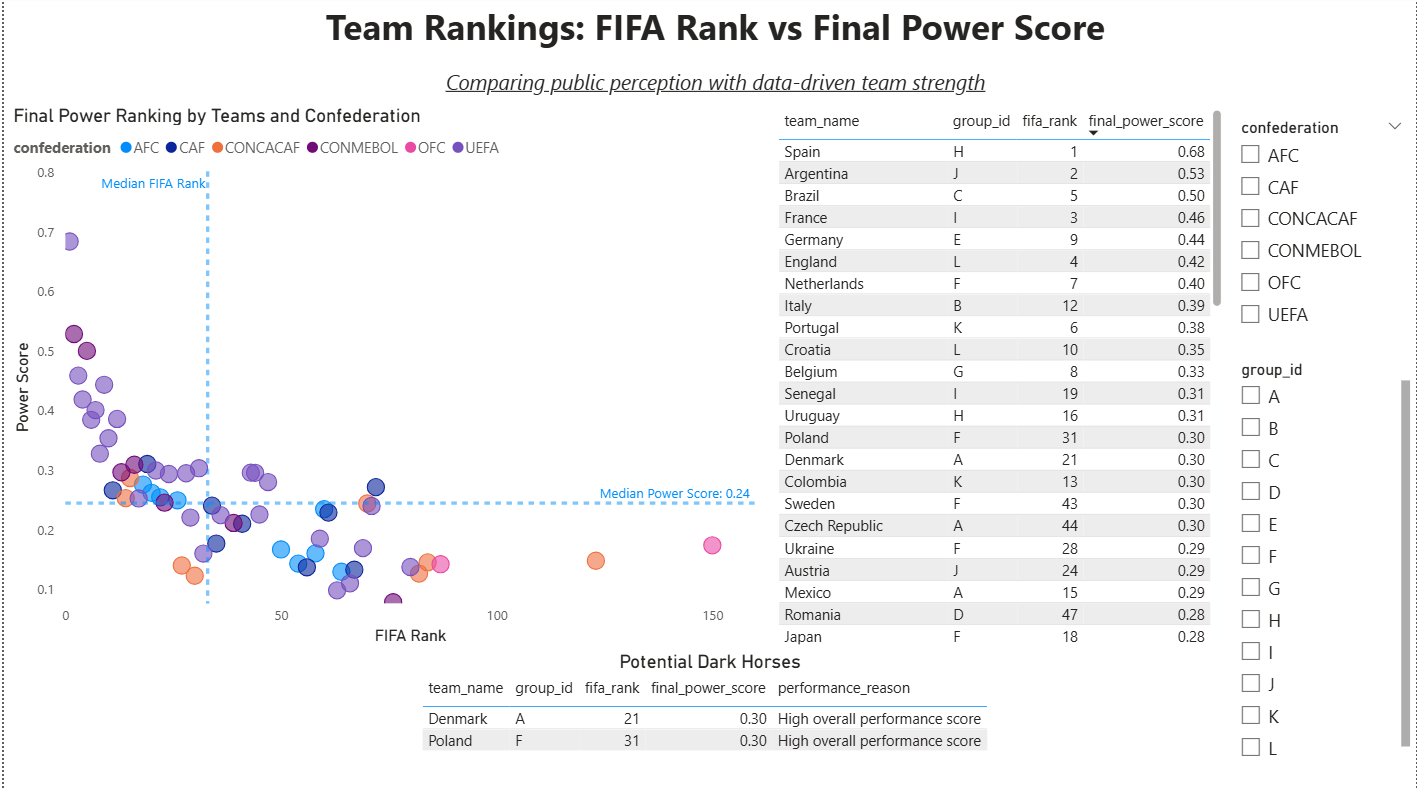

The dashboard page shown, as its layout file describes it:
{"tool":"powerbi","page":{"name":"Team Rankings","canvas":[1280,720],"ordinal":2},"visuals":[{"type":"textbox","box":[10,0,1270.4,97.9],"z":0},{"type":"scatterChart","title":"Final Power Ranking by Teams and Confederation","fields":{"X":["gold_wc2026_team_master.fifa_rank"],"Y":["gold_final_power_score.final_power_score"],"Series":["gold_wc2026_team_master.confederation"]},"box":[3.6,97.9,692.8,495.1],"z":2000},{"type":"slicer","fields":{"Values":["gold_wc2026_team_master.confederation"]},"box":[1109,106.1,171.4,231.2],"z":3000},{"type":"slicer","fields":{"Values":["gold_wc2026_team_master.group_id"]},"box":[1109,325.5,171.4,371.8],"z":4000},{"type":"tableEx","fields":{"Values":["gold_wc2026_team_master.team_name","gold_wc2026_team_master.group_id","gold_wc2026_team_master.fifa_rank","gold_final_power_score.final_power_score"]},"box":[696.4,97.9,412.6,495.1],"z":5000},{"type":"tableEx","title":"Potential Dark Horses","fields":{"Values":["gold_dark_horse_teams.team_name","gold_dark_horse_teams.group_id","gold_dark_horse_teams.fifa_rank","gold_dark_horse_teams.final_power_score","gold_dark_horse_teams.performance_reason"]},"box":[373.6,593,533.2,104.3],"z":6000}]}

Visuals, with their boxes in screenshot pixels (x1, y1, x2, y2), scaled from the page's 1280x720 canvas onto the 1417x788 screenshot:
textbox: <bbox>11, 0, 1416, 107</bbox>
"Final Power Ranking by Teams and Confederation" scatterChart: <bbox>4, 107, 771, 649</bbox>
slicer - gold_wc2026_team_master.confederation: <bbox>1228, 116, 1416, 369</bbox>
slicer - gold_wc2026_team_master.group_id: <bbox>1228, 356, 1416, 763</bbox>
tableEx - gold_wc2026_team_master.team_name x gold_wc2026_team_master.group_id: <bbox>771, 107, 1228, 649</bbox>
"Potential Dark Horses" tableEx: <bbox>414, 649, 1004, 763</bbox>
